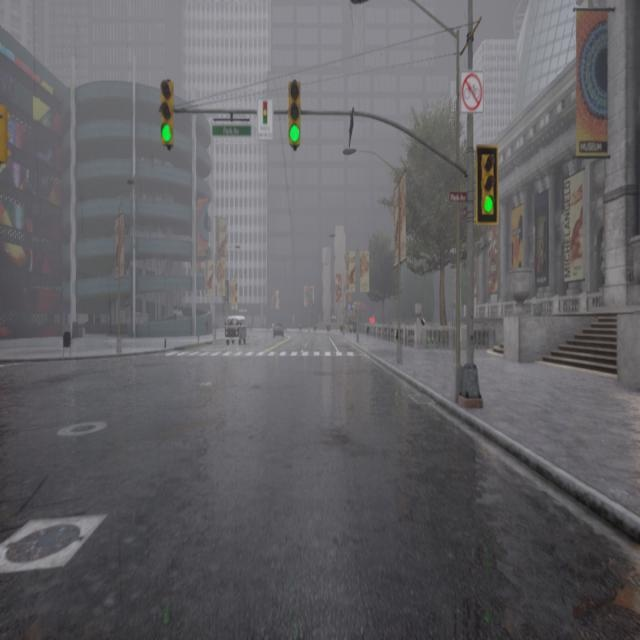bien_chi_dan: (470, 145, 500, 224), (284, 76, 306, 149), (158, 77, 178, 150), (460, 73, 485, 117), (159, 122, 174, 144), (288, 122, 300, 144), (482, 194, 494, 216)
